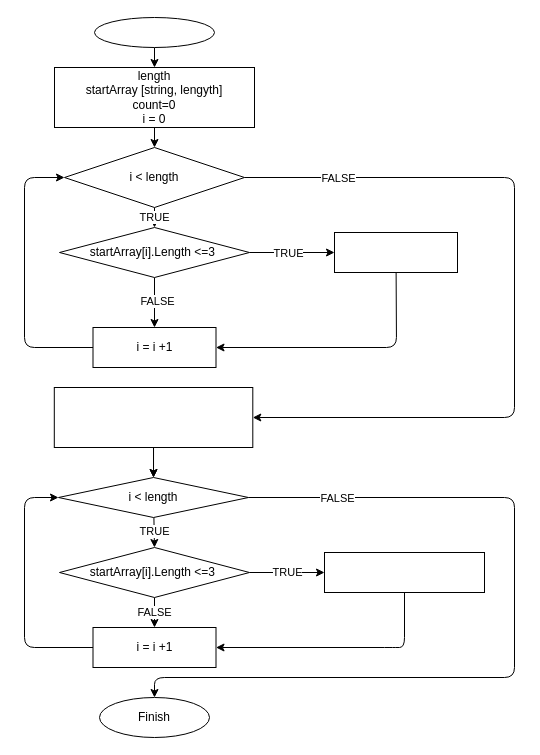
The diagram is 540 pixels wide and 755 high, and some of its shapes have lost their labels. The shapes that lost their labels are listed below. From the top down, each one's centre as x and y in pixels, then its label:
At [154,32]: "Start".
At [396,252]: "count = count +1".
At [153,417]: "finishArray [string, count] j=0".
At [404,572]: "finishArray[j] = startArray[i] j = j +1".
